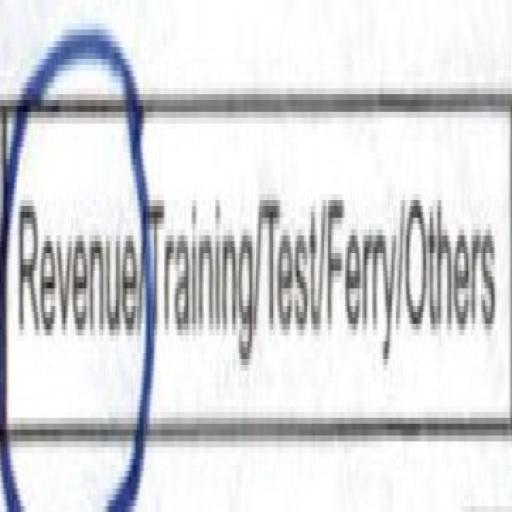check: (1, 20, 149, 512)
